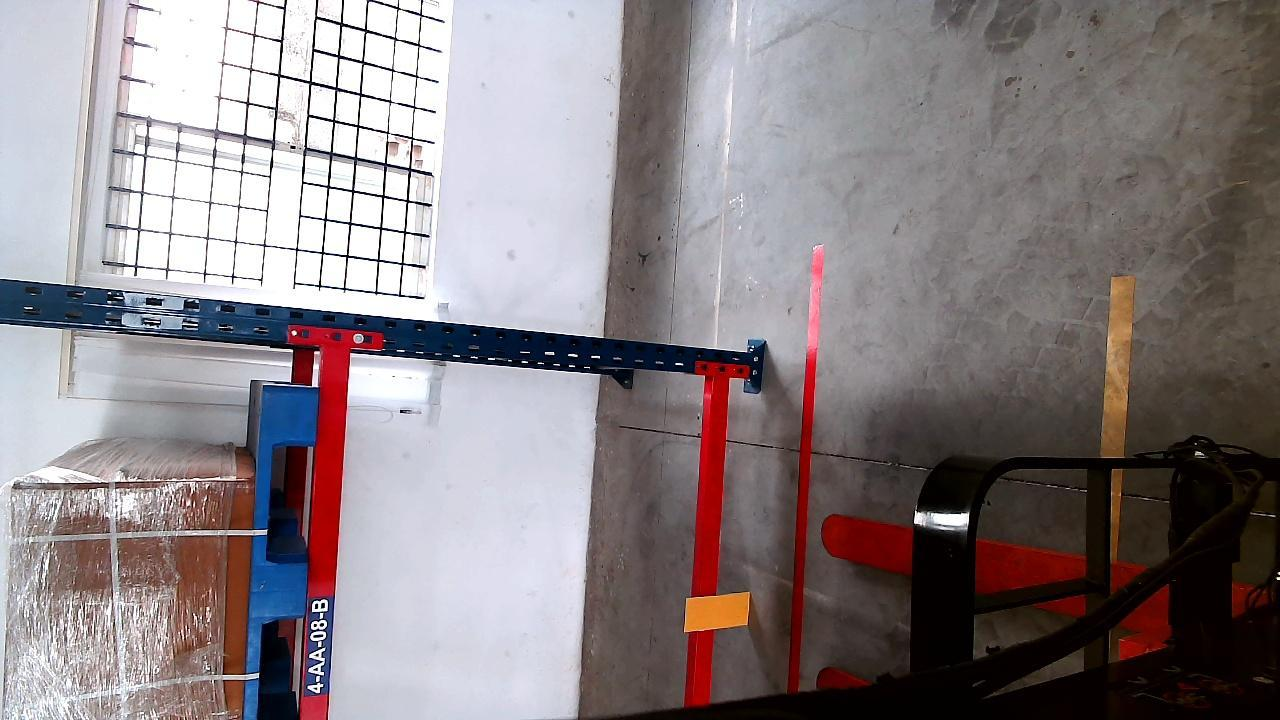red_line: (788, 243, 823, 691)
yellow_line: (1101, 276, 1135, 457)
